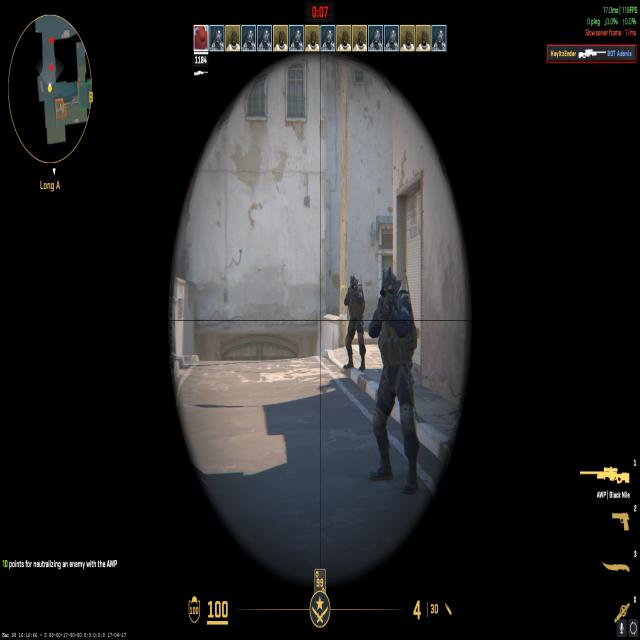ct: (360, 260, 428, 502), (338, 270, 370, 376)
